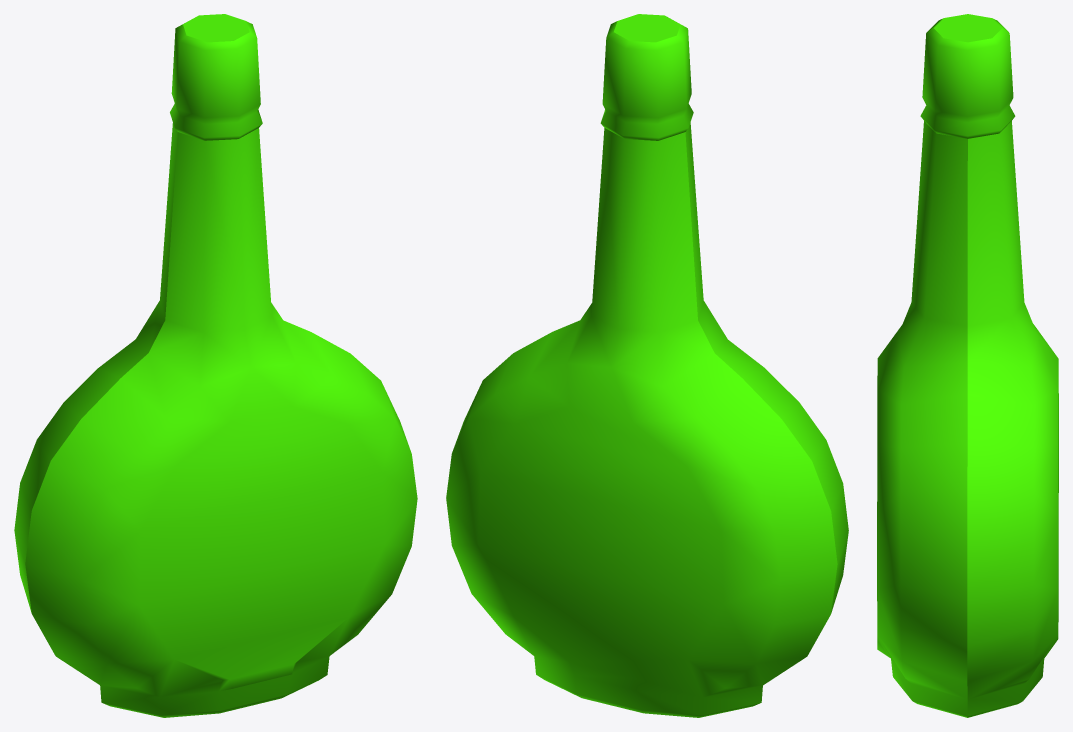
File: 20_bluecuracao.gltf
3 renders of one model, left to right at view 1: azimuth 30°, elevation 25°; view 2: azimuth 150°, elevation 25°; view 3: azimuth 270°, elevation 25°, orthographic. The views are drawn at different scales.
Visible parts, largest first — view 1: Curacao_Atlas_0; view 2: Curacao_Atlas_0; view 3: Curacao_Atlas_0.
Boxes of the visible parts, x1,y1,x2,y2 form: Curacao_Atlas_0: (14, 14, 417, 717); Curacao_Atlas_0: (446, 14, 848, 717); Curacao_Atlas_0: (877, 14, 1058, 717).
Size of the model in its own units: 14.12 by 23.11 by 5.95.
1 material, 1 textured.
